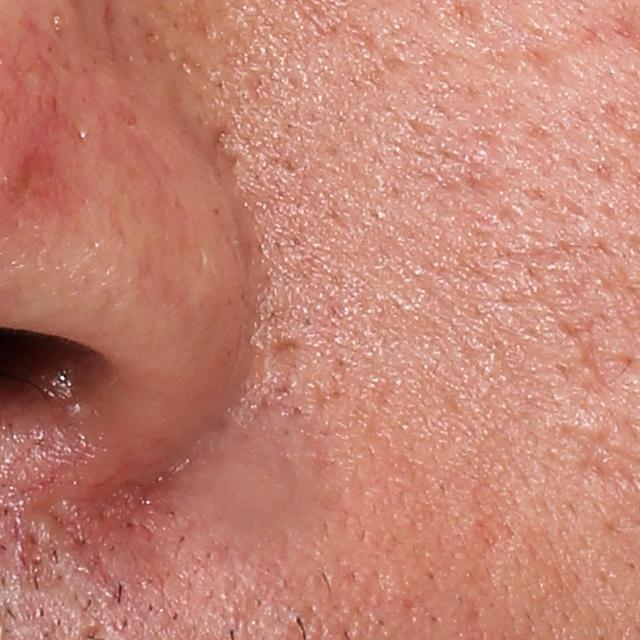atrophic_scar: (557, 318, 610, 406), (523, 42, 579, 89), (267, 338, 306, 368)
